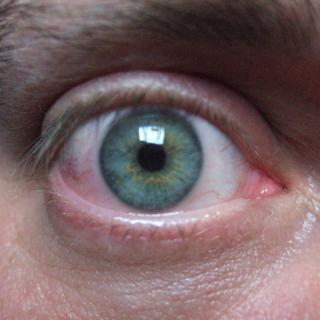iris: (101, 105, 205, 209)
